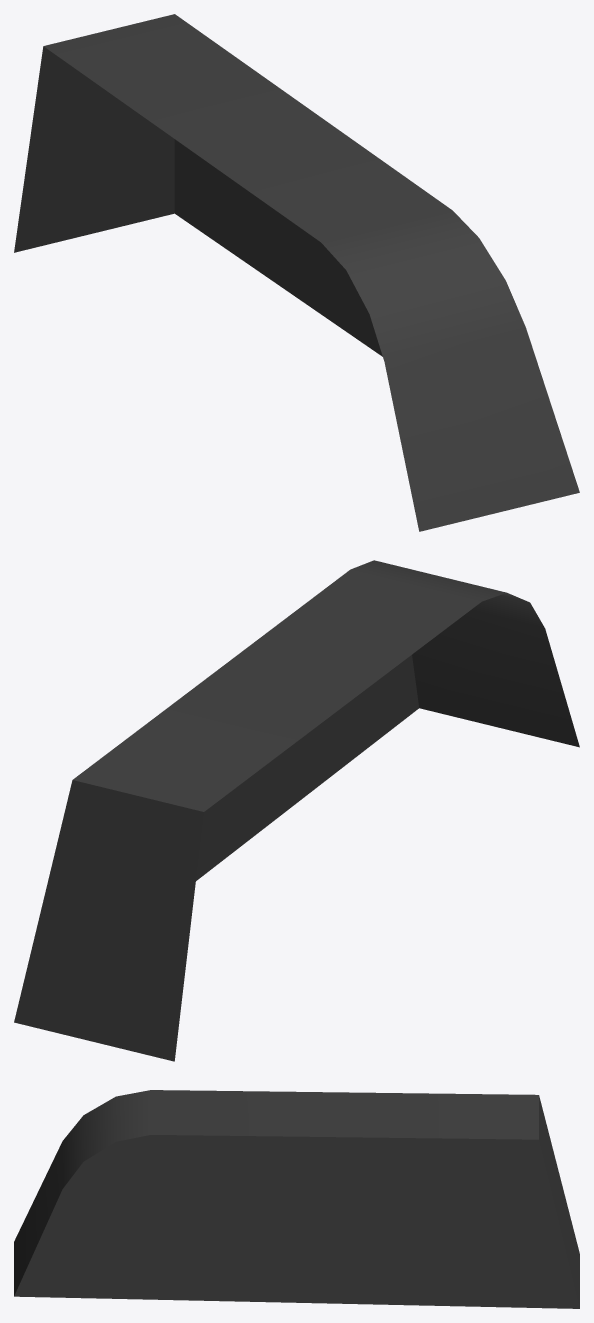
Rendered from DetailShip.fbx.
3 views of the same model, one above another, from view 1: azimuth 30°, elevation 25°; view 2: azimuth 150°, elevation 25°; view 3: azimuth 270°, elevation 25° (orthographic). The views are drawn at different scales.
Visible parts, largest first — view 1: Spaceship_FernandoTheFlamingo.007; view 2: Spaceship_FernandoTheFlamingo.007; view 3: Spaceship_FernandoTheFlamingo.007.
Part boxes in pixels (bbox=[...]): Spaceship_FernandoTheFlamingo.007: bbox=[14, 14, 579, 531]; Spaceship_FernandoTheFlamingo.007: bbox=[14, 560, 579, 1061]; Spaceship_FernandoTheFlamingo.007: bbox=[14, 1090, 579, 1308].
Bounding box in the file's own units: 36.57 × 51.14 × 160.
1 material, 1 textured.
